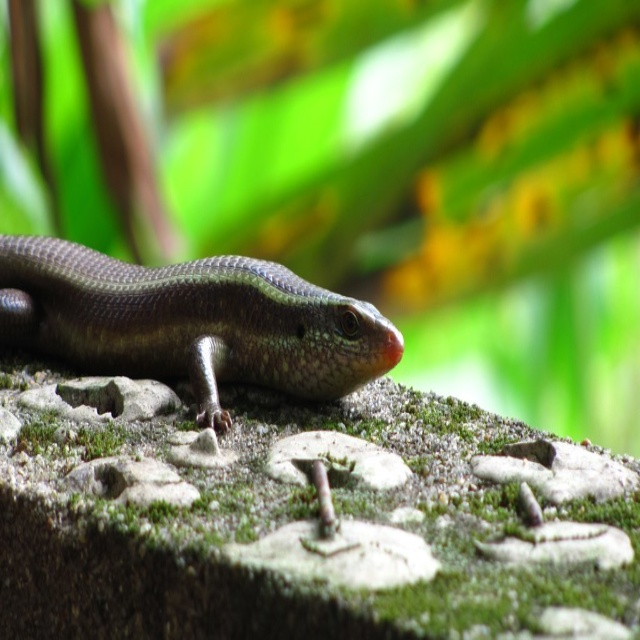Lizard: (0, 234, 404, 430)
